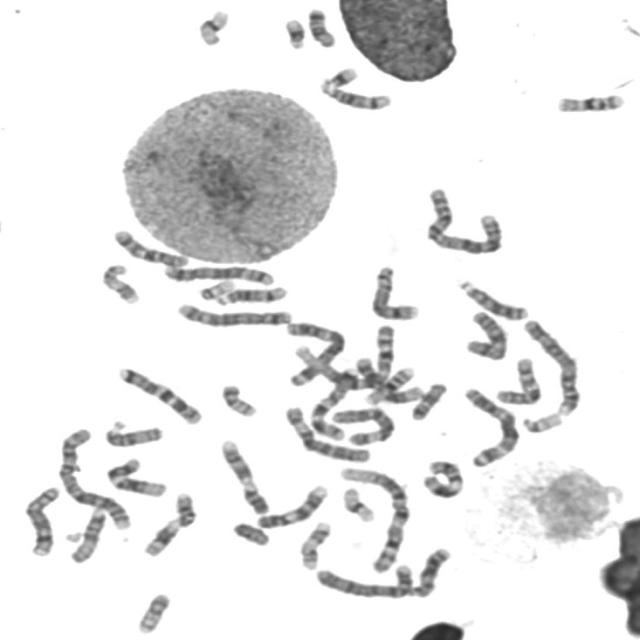A1: (336, 461, 413, 575), (286, 320, 398, 390)
A2: (54, 424, 136, 532), (421, 184, 506, 256)
A3: (459, 383, 523, 469), (283, 318, 348, 387)
B4: (519, 315, 582, 417), (311, 559, 417, 601)
B5: (170, 298, 294, 328), (159, 261, 276, 287)
C10: (108, 225, 191, 269), (492, 353, 544, 406)
C11: (138, 488, 199, 559), (418, 456, 467, 500)
C12: (355, 355, 426, 408), (102, 454, 168, 498)
C6: (278, 402, 373, 463), (327, 402, 398, 447)
C7: (113, 362, 205, 426), (304, 364, 360, 441)
C8: (366, 261, 422, 322), (21, 483, 63, 558)
C9: (216, 435, 272, 516), (252, 480, 330, 530)
D13: (453, 276, 530, 322), (403, 544, 453, 602)
D14: (315, 78, 395, 112), (210, 282, 290, 308)
D15: (65, 504, 108, 564), (100, 418, 166, 449)
E16: (353, 365, 425, 405), (551, 89, 628, 114)
E17: (295, 518, 334, 572), (97, 260, 142, 306)
E18: (407, 379, 450, 421), (304, 4, 339, 48)
F19: (338, 482, 379, 524), (193, 5, 232, 47)
F20: (133, 590, 173, 635), (217, 380, 260, 418)
G21: (320, 62, 360, 90), (280, 14, 308, 50)
G22: (518, 409, 566, 435), (194, 275, 237, 302)
X: (461, 307, 511, 362)
Y: (228, 518, 272, 548)
